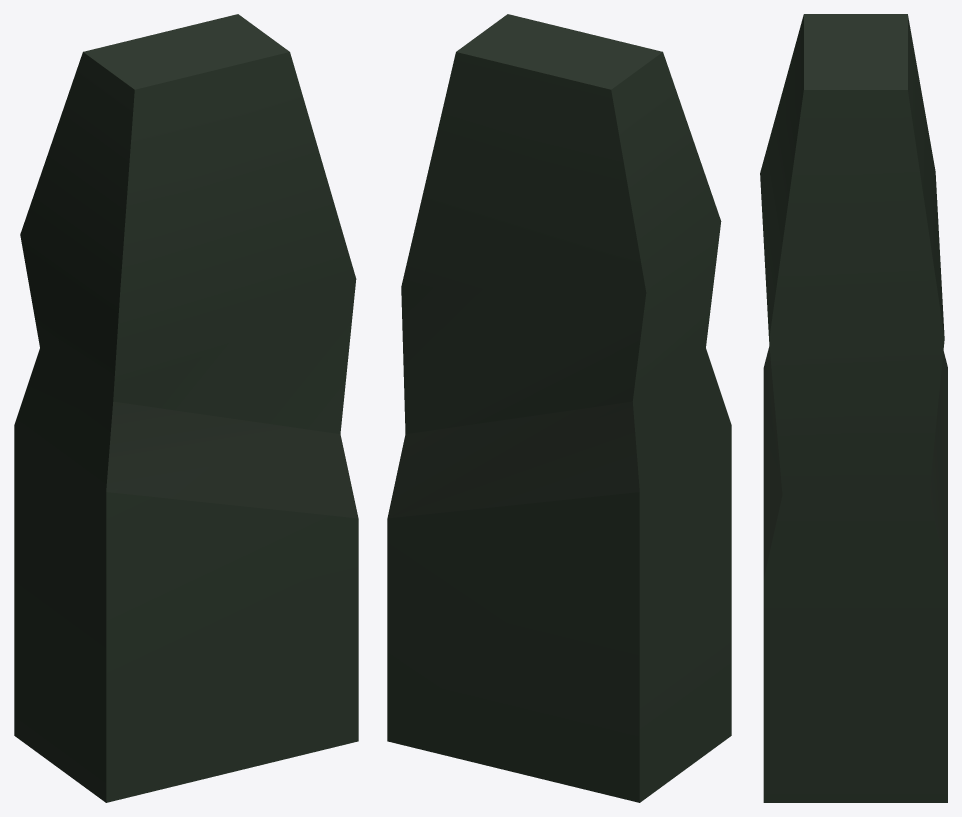
File: SF_Prop_StandingStone_02.glb
3 renders of one model, left to right at view 1: azimuth 30°, elevation 25°; view 2: azimuth 150°, elevation 25°; view 3: azimuth 270°, elevation 25°, orthographic.
Parts seen in each view (by area): view 1: SF_Env_StandingStone_02; view 2: SF_Env_StandingStone_02; view 3: SF_Env_StandingStone_02.
Boxes of the visible parts, x1,y1,x2,y2 form: SF_Env_StandingStone_02: [14, 14, 358, 802]; SF_Env_StandingStone_02: [387, 14, 731, 802]; SF_Env_StandingStone_02: [760, 14, 947, 802].
Bounding box in the file's own units: 0.0208 × 0.0539 × 0.0133.
1 material, 1 textured.
